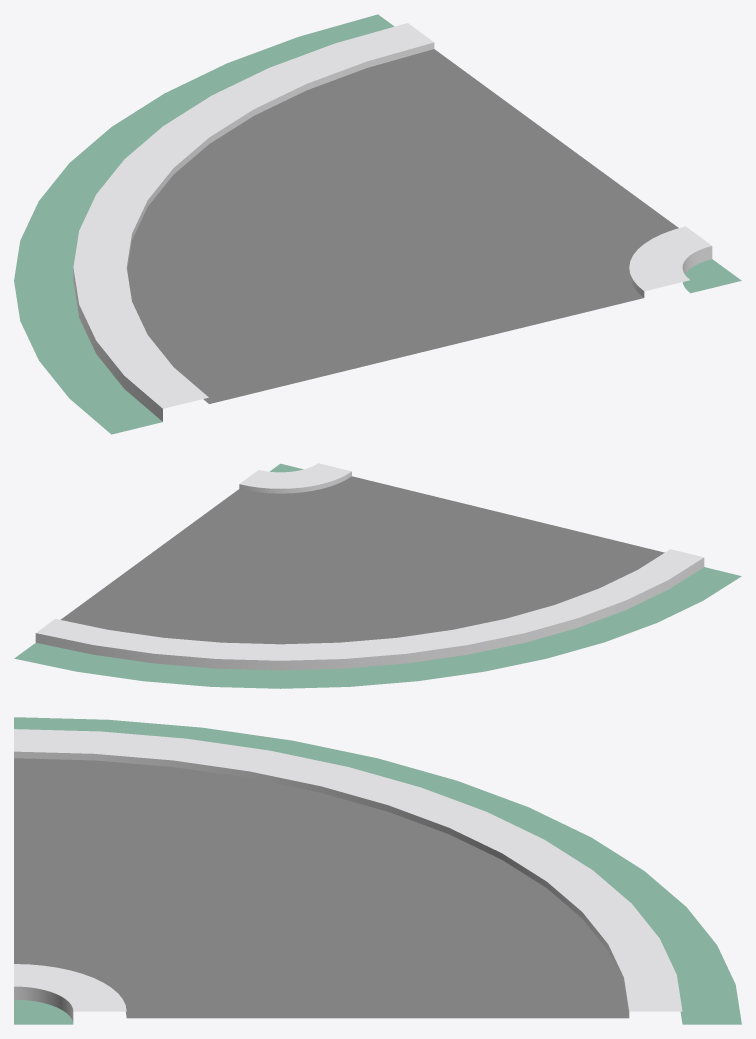
Rendered from roadCornerSmall.glb.
3 renders of one model, top to bottom at view 1: azimuth 30°, elevation 25°; view 2: azimuth 150°, elevation 25°; view 3: azimuth 270°, elevation 25°, orthographic. The views are drawn at different scales.
Parts seen in each view (by area): view 1: roadCornerSmall(Clone); view 2: roadCornerSmall(Clone); view 3: roadCornerSmall(Clone).
Boxes of the visible parts, x1,y1,x2,y2 form: roadCornerSmall(Clone): (14,14,741,434); roadCornerSmall(Clone): (14,463,741,688); roadCornerSmall(Clone): (14,717,741,1024).
Size of the model in its own units: 1 by 0.02 by 1.
1 material, 1 textured.
